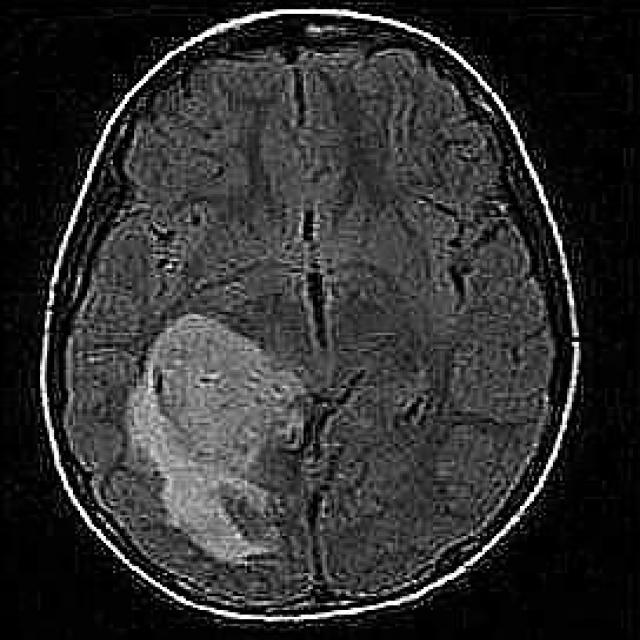Tumor-Cell: (91, 293, 324, 556)
